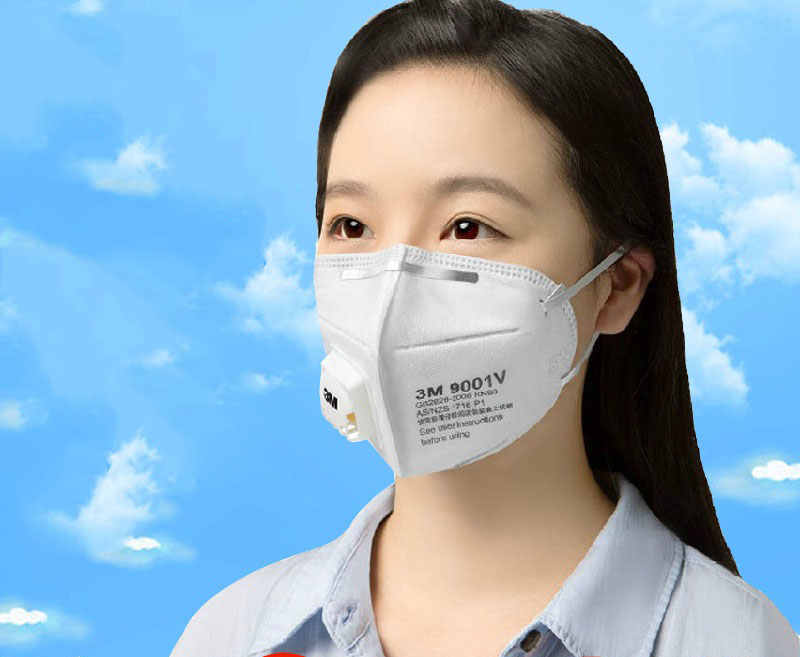face_mask: (309, 85, 583, 436)
